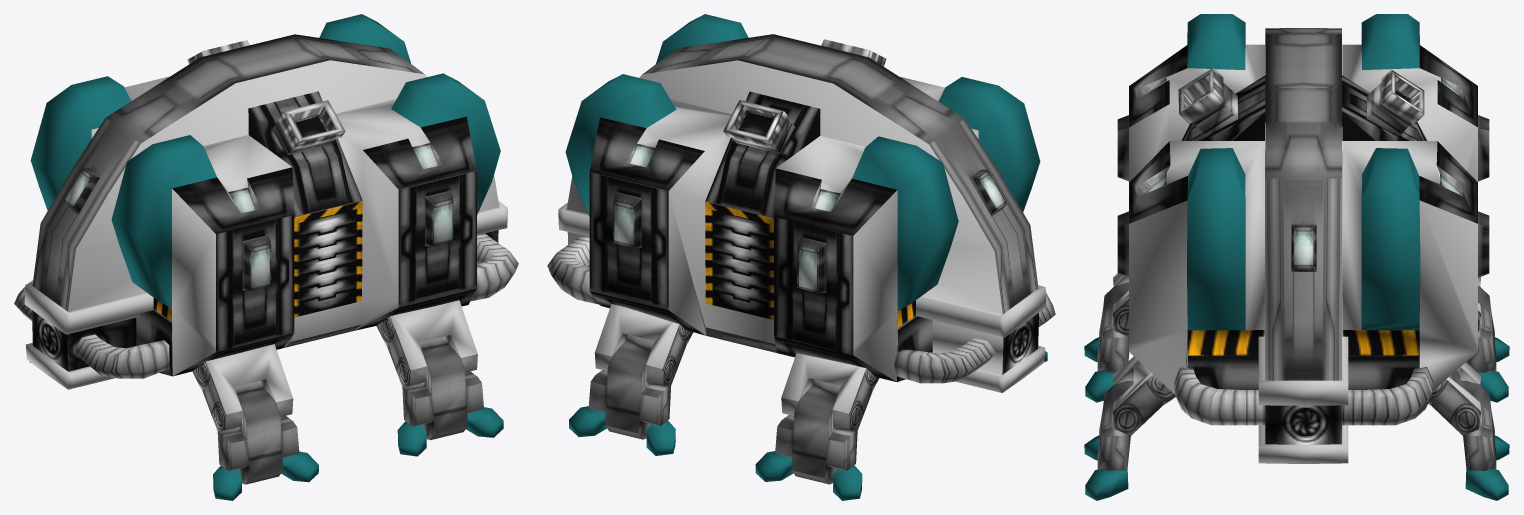
Rendered from CHILD Facility 3.fbx.
The picture shows the model from 3 angles, left to right: view 1: azimuth 30°, elevation 25°; view 2: azimuth 150°, elevation 25°; view 3: azimuth 270°, elevation 25°; orthographic projection. The views are drawn at different scales.
Visible parts, largest first — view 1: Cube.001; view 2: Cube.001; view 3: Cube.001.
Boxes of the visible parts, x1,y1,x2,y2 form: Cube.001: (14,14,518,500); Cube.001: (547,14,1055,500); Cube.001: (1084,14,1509,500).
Size of the model in its own units: 496 by 361 by 382.
